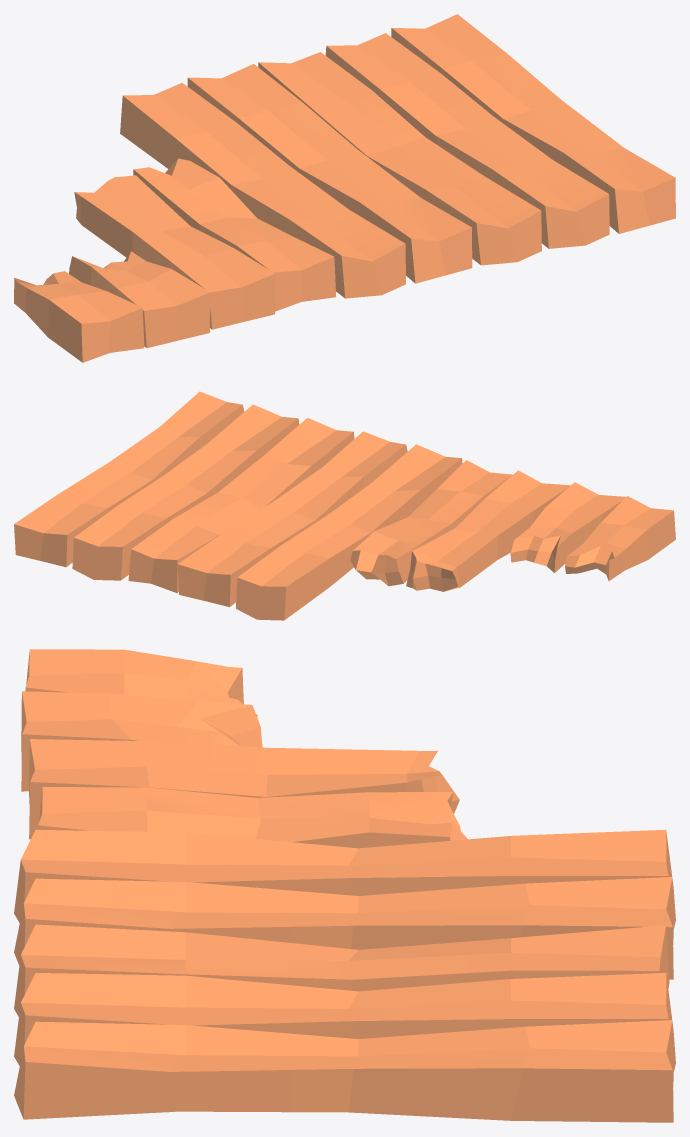
The model's file is PlatformM_Wood2.fbx.
3 views of the same model, one above another, from view 1: azimuth 30°, elevation 25°; view 2: azimuth 150°, elevation 25°; view 3: azimuth 270°, elevation 25° (orthographic). The views are drawn at different scales.
Parts seen in each view (by area): view 1: WoodPlank4_1, WoodPlank4, WoodPlank5_1, WoodPlank5, WoodPlank6, WoodPlank8, WoodPlank7, WoodPlank12, WoodPlank11; view 2: WoodPlank4_1, WoodPlank4, WoodPlank5, WoodPlank5_1, WoodPlank6, WoodPlank8, WoodPlank7, WoodPlank12, WoodPlank11; view 3: WoodPlank5, WoodPlank5_1, WoodPlank4_1, WoodPlank4, WoodPlank6, WoodPlank8, WoodPlank7, WoodPlank11, WoodPlank12.
Boxes of the visible parts, bbox=[...] form: WoodPlank4_1: bbox=[120, 83, 405, 298]; WoodPlank4: bbox=[325, 33, 609, 248]; WoodPlank5_1: bbox=[187, 64, 472, 283]; WoodPlank5: bbox=[391, 14, 675, 233]; WoodPlank6: bbox=[258, 52, 541, 265]; WoodPlank8: bbox=[74, 175, 275, 329]; WoodPlank7: bbox=[133, 158, 335, 311]; WoodPlank12: bbox=[14, 271, 144, 362]; WoodPlank11: bbox=[69, 251, 210, 348]; WoodPlank4_1: bbox=[236, 444, 462, 620]; WoodPlank4: bbox=[72, 404, 299, 580]; WoodPlank5: bbox=[14, 391, 244, 567]; WoodPlank5_1: bbox=[177, 431, 407, 607]; WoodPlank6: bbox=[128, 418, 354, 592]; WoodPlank8: bbox=[406, 470, 570, 591]; WoodPlank7: bbox=[350, 460, 512, 586]; WoodPlank12: bbox=[565, 496, 675, 580]; WoodPlank11: bbox=[510, 482, 625, 572]; WoodPlank5: bbox=[14, 1020, 673, 1122]; WoodPlank5_1: bbox=[14, 877, 673, 979]; WoodPlank4_1: bbox=[14, 829, 675, 928]; WoodPlank4: bbox=[14, 973, 675, 1071]; WoodPlank6: bbox=[14, 924, 669, 1016]; WoodPlank8: bbox=[29, 739, 459, 839]; WoodPlank7: bbox=[38, 787, 467, 848]; WoodPlank11: bbox=[21, 691, 262, 791]; WoodPlank12: bbox=[25, 649, 257, 716].
Size of the model in its own units: 596 by 44.35 by 396.
